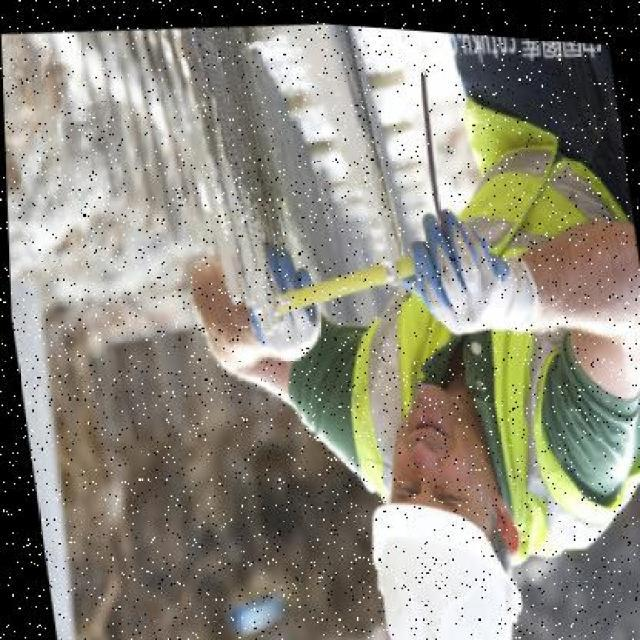helmet: (357, 476, 528, 639)
vest: (365, 100, 639, 523)
